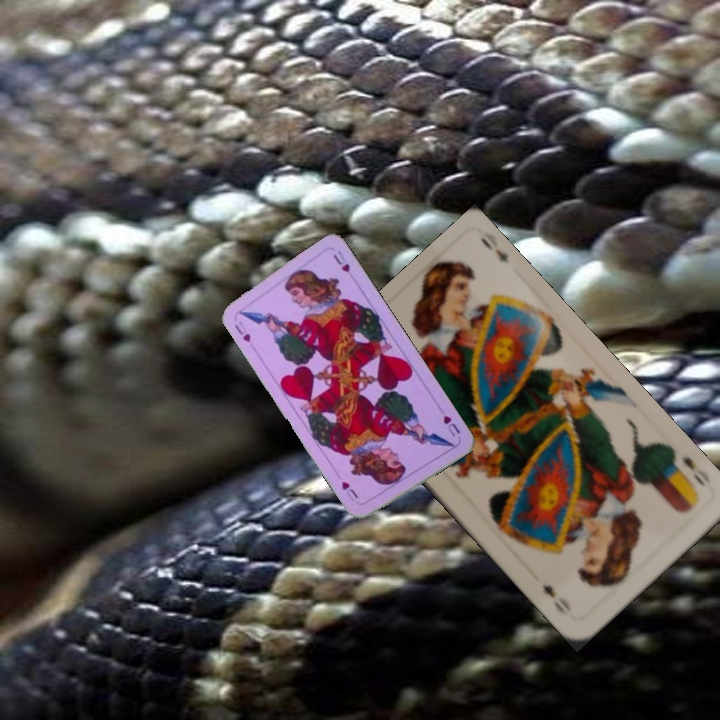EO: (668, 447, 708, 498)
HU: (439, 411, 463, 439), (231, 317, 253, 345)
